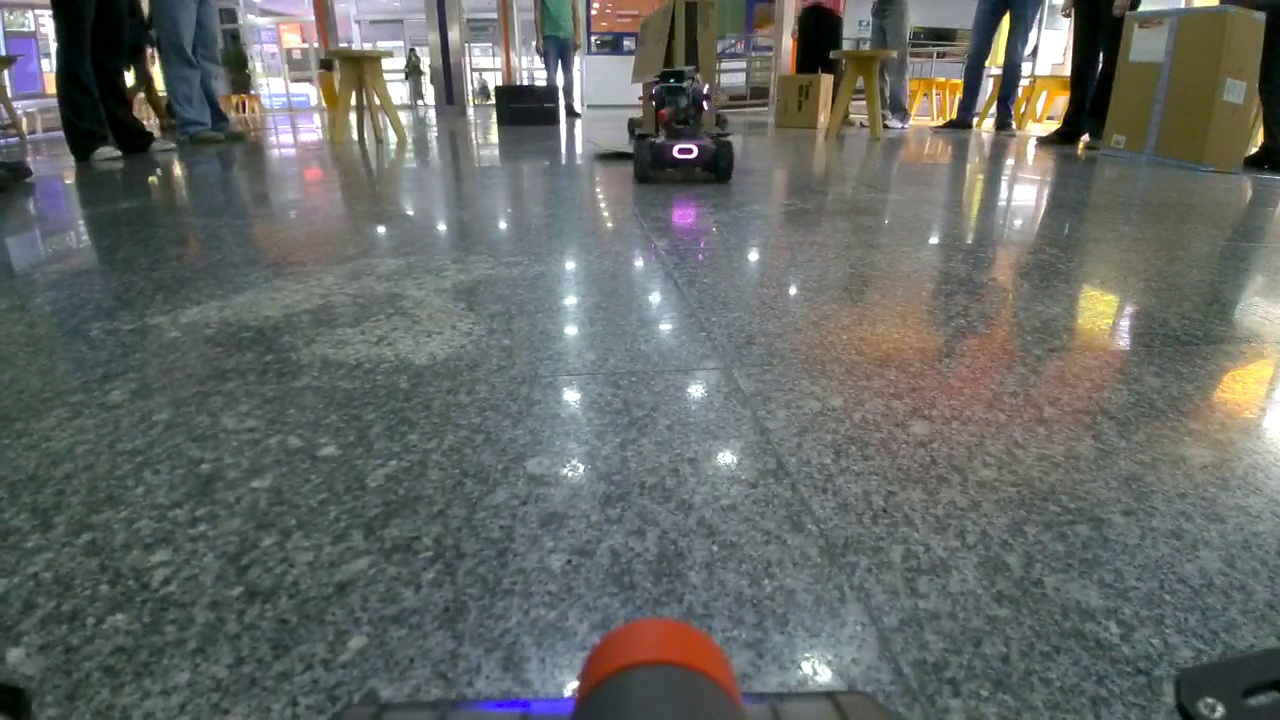robot: (632, 67, 735, 183)
